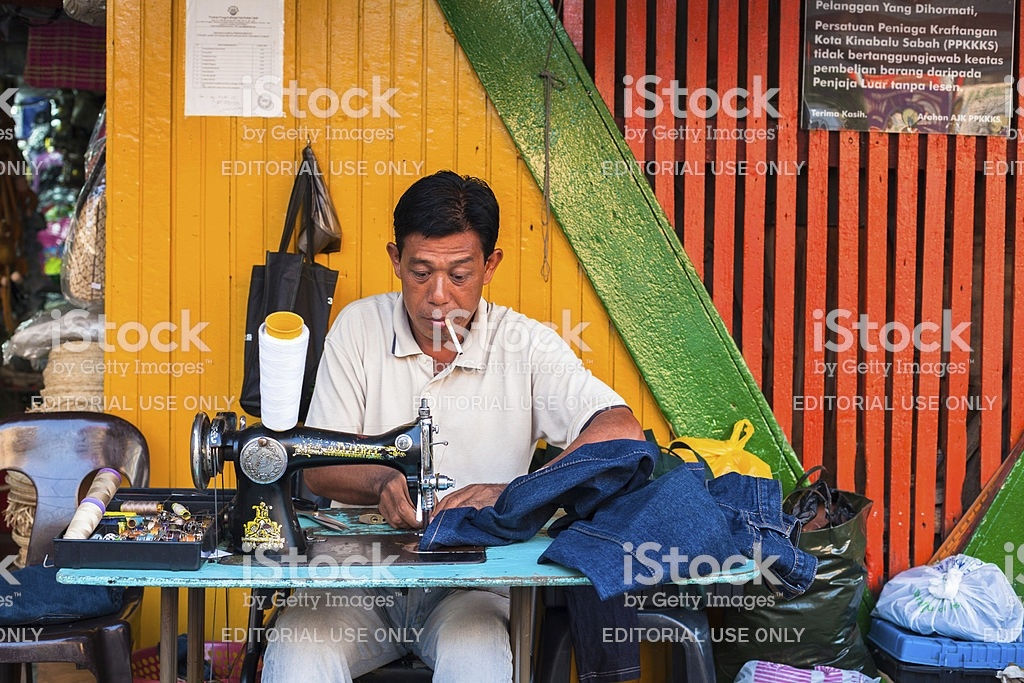sigaretta: (441, 306, 466, 362)
